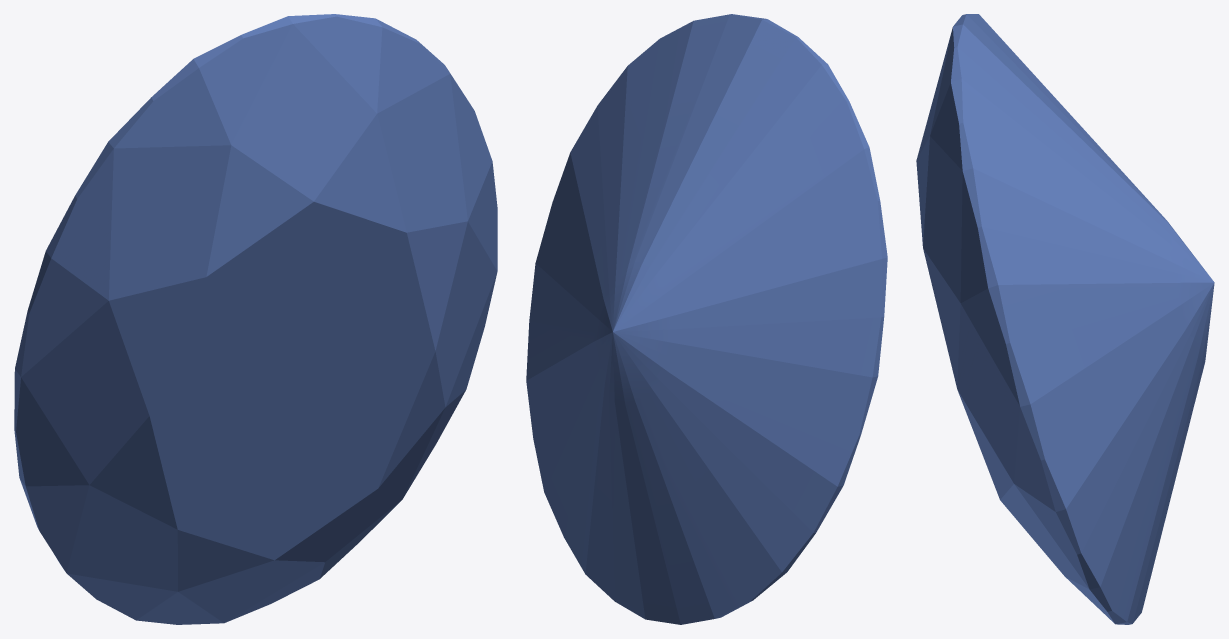
File: BL1_8shapes_Oval_Classic_Stone.001 3.glb
3 views of the same model, side by side, from view 1: azimuth 30°, elevation 25°; view 2: azimuth 150°, elevation 25°; view 3: azimuth 270°, elevation 25° (orthographic). The views are drawn at different scales.
Parts seen in each view (by area): view 1: BL1_8shapes_Oval_Classic_Stone.001; view 2: BL1_8shapes_Oval_Classic_Stone.001; view 3: BL1_8shapes_Oval_Classic_Stone.001.
Boxes of the visible parts, bbox=[...] form: BL1_8shapes_Oval_Classic_Stone.001: bbox=[14, 14, 497, 624]; BL1_8shapes_Oval_Classic_Stone.001: bbox=[526, 14, 887, 624]; BL1_8shapes_Oval_Classic_Stone.001: bbox=[916, 14, 1214, 624].
Size of the model in its own units: 0.3885 by 0.5675 by 0.2667.
